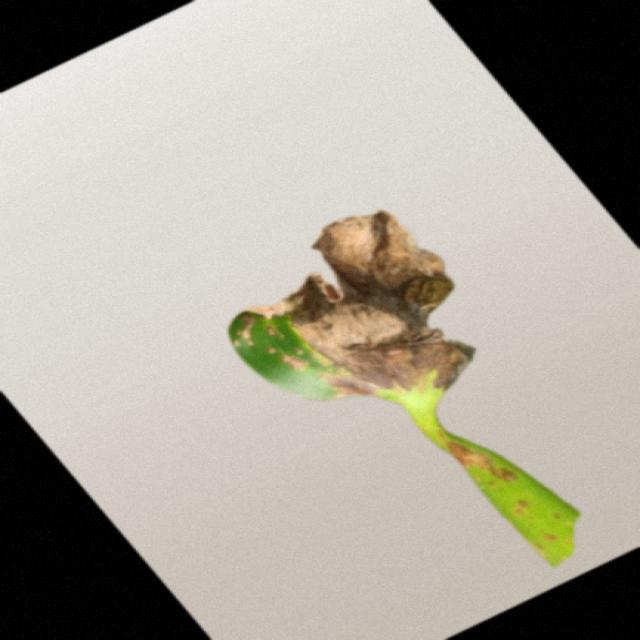daun berpenyakit karat: (229, 212, 580, 566)
